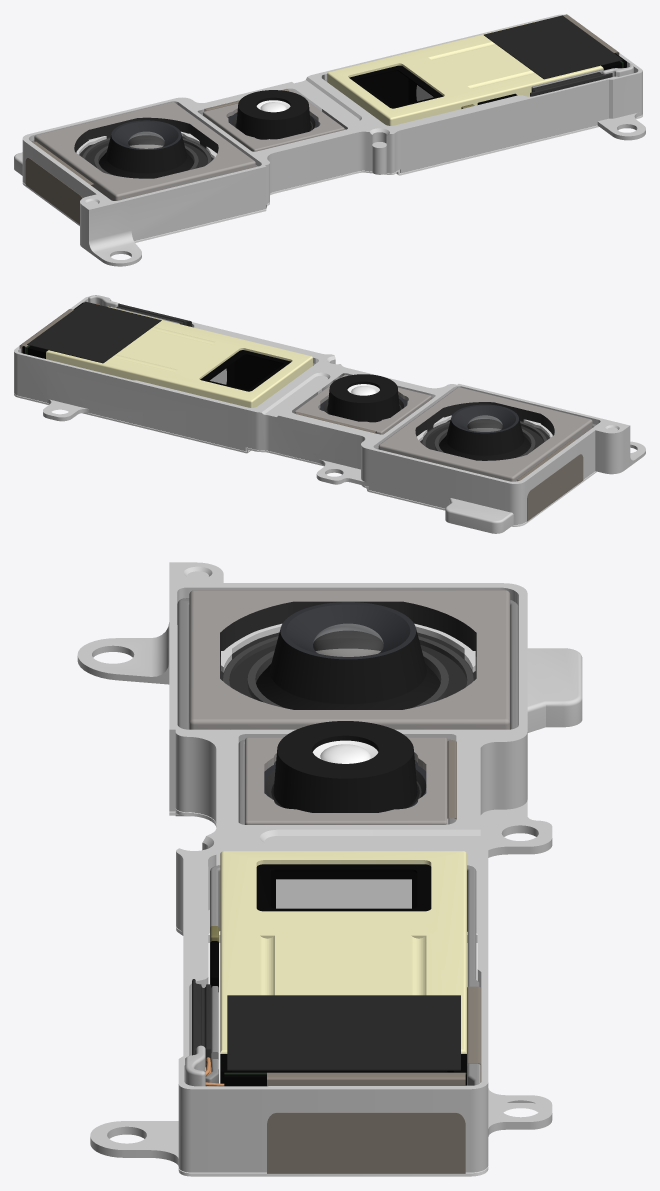
File: Pixel7Pro.gltf
3 views of the same model, one above another, from view 1: azimuth 30°, elevation 25°; view 2: azimuth 150°, elevation 25°; view 3: azimuth 270°, elevation 25° (orthographic). The views are drawn at different scales.
Visible parts, largest first — view 1: 立方体.065; view 2: 立方体.065; view 3: 立方体.065.
Part boxes in pixels (left/top/right/bottom): 立方体.065: left=14, top=14, right=645, bottom=266; 立方体.065: left=14, top=295, right=645, bottom=533; 立方体.065: left=77, top=562, right=582, bottom=1176.
Size of what is drawn, in the model's own units: 9.4 by 0.9732 by 3.81.
